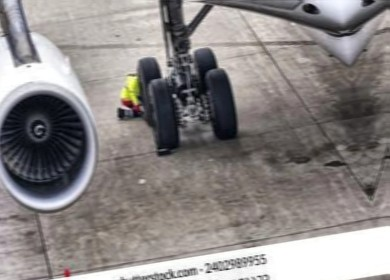chock: (154, 141, 175, 157)
wheel: (144, 72, 183, 154), (203, 63, 242, 141), (136, 54, 171, 127), (191, 44, 221, 93)
